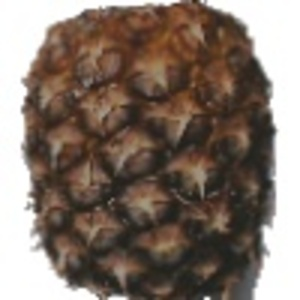abacaxi: (18, 2, 280, 298)
